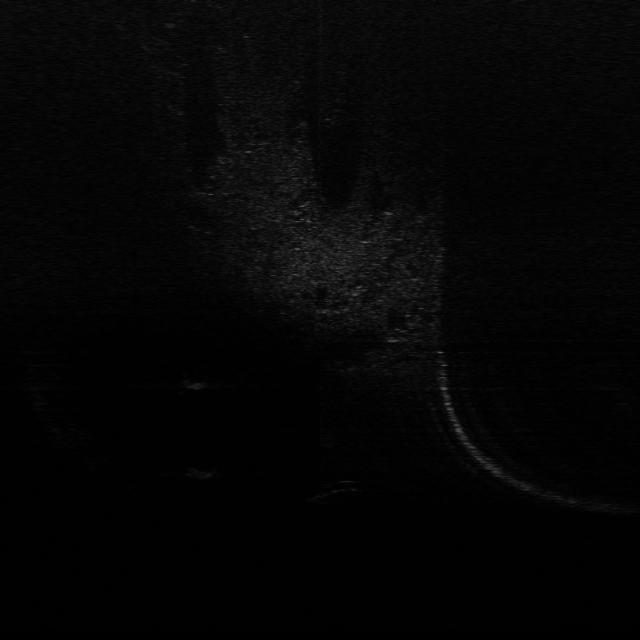cube: (182, 464, 219, 482)
square cage: (178, 372, 210, 390)
tyre: (306, 478, 364, 506)
